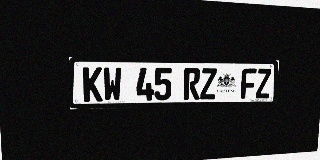4: (136, 67, 154, 101)
5: (154, 68, 172, 100)
F: (241, 68, 257, 99)
K: (83, 67, 103, 102)
R: (183, 68, 200, 100)
W: (103, 67, 122, 101)
Z: (200, 68, 217, 99), (256, 68, 271, 98)
